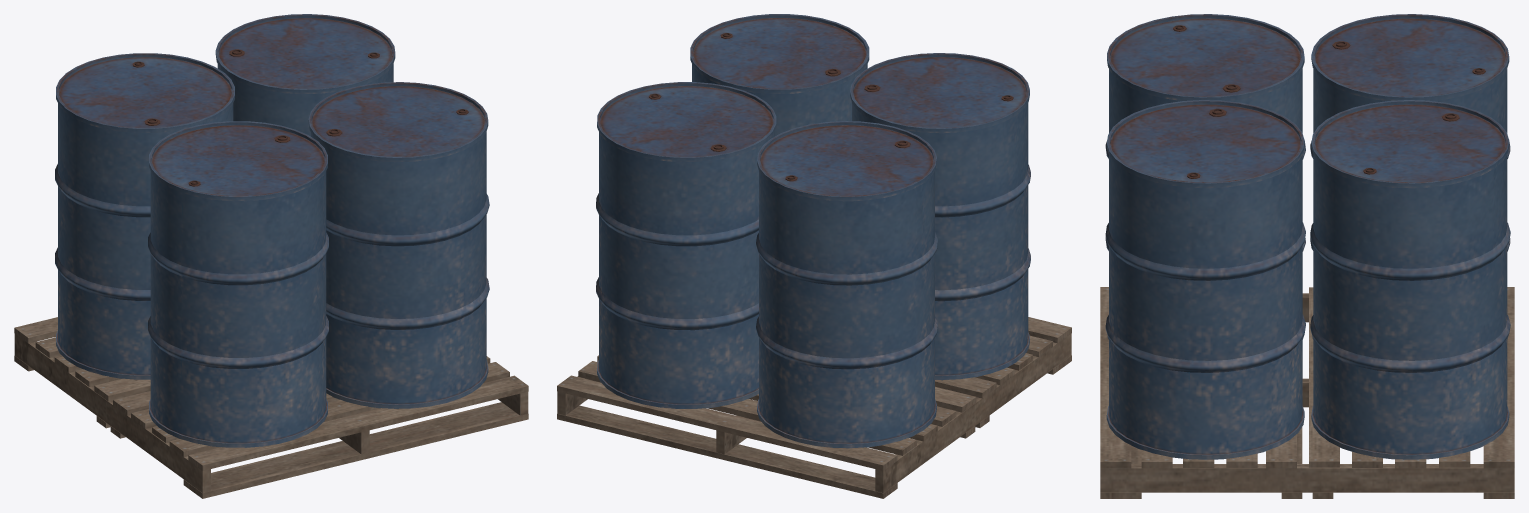
The model's file is SM_Barrel_Stack_2.fbx.
3 renders of one model, left to right at view 1: azimuth 30°, elevation 25°; view 2: azimuth 150°, elevation 25°; view 3: azimuth 270°, elevation 25°, orthographic. The views are drawn at different scales.
Parts seen in each view (by area): view 1: SM_Barrel_Stack_2_LOD0; view 2: SM_Barrel_Stack_2_LOD0; view 3: SM_Barrel_Stack_2_LOD0.
Boxes of the visible parts, x1,y1,x2,y2 form: SM_Barrel_Stack_2_LOD0: (14,14,528,498); SM_Barrel_Stack_2_LOD0: (557,14,1071,498); SM_Barrel_Stack_2_LOD0: (1100,14,1514,498).
Bounding box in the file's own units: 144 × 144 × 120.
Materials: 2 (2 with a texture image).
